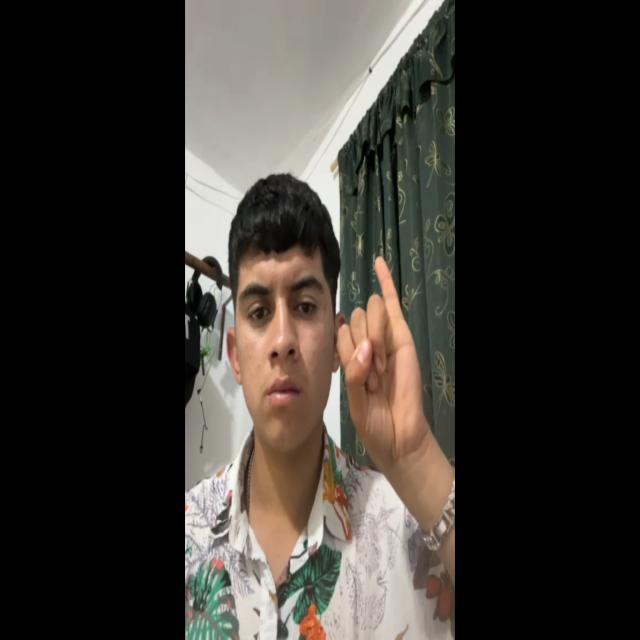I: (320, 248, 430, 470)
